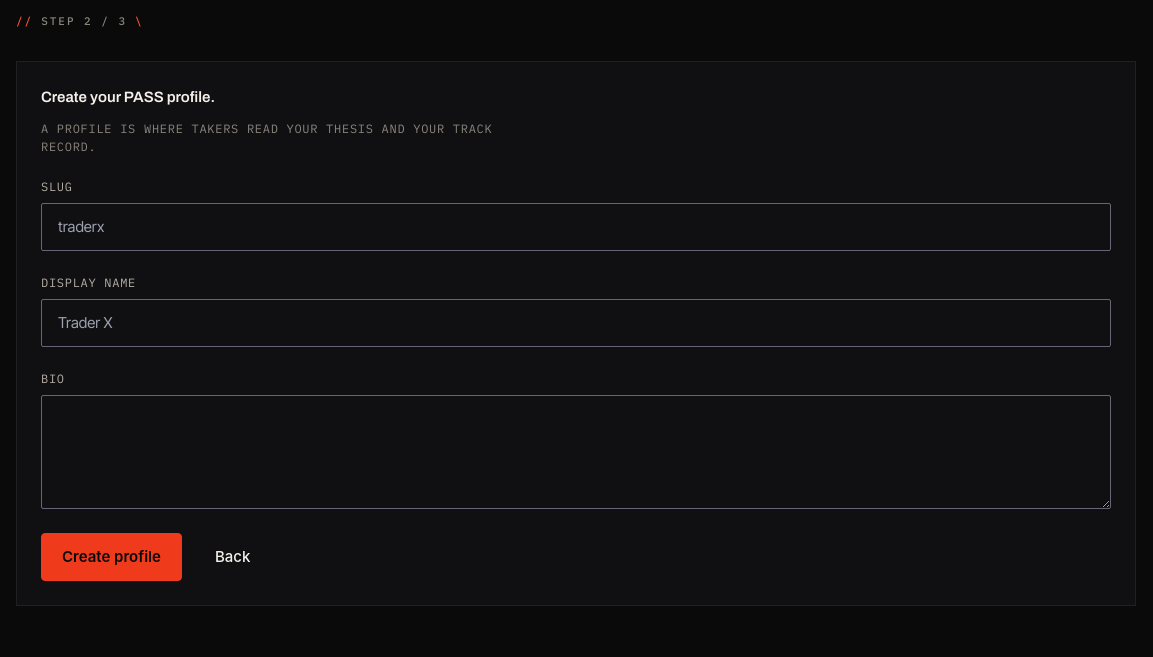
Test: OnboardingFlow — profile step › surfaces a taken slug from the API
Expected: the heading "Create your PASS profile." is shown, [41,89,215,105]
In the field labelled "Slug": [576, 227] box [41,203,1111,251], type "takenname"
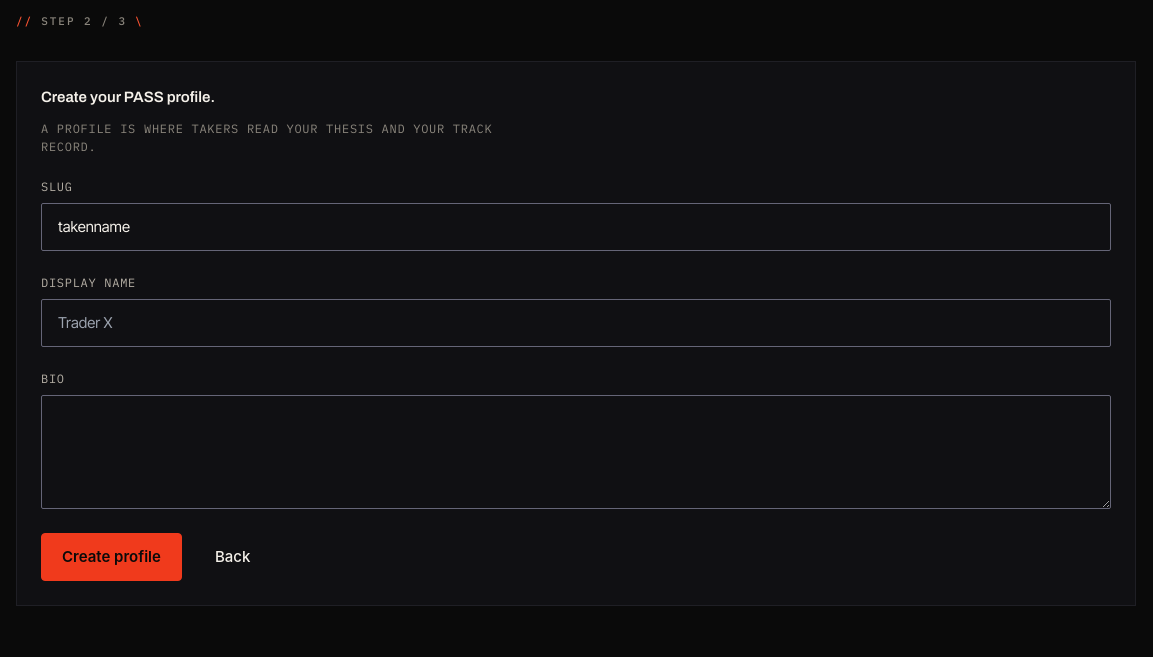
In the field labelled "Display name": [576, 323] box [41,299,1111,347], type "Taken"
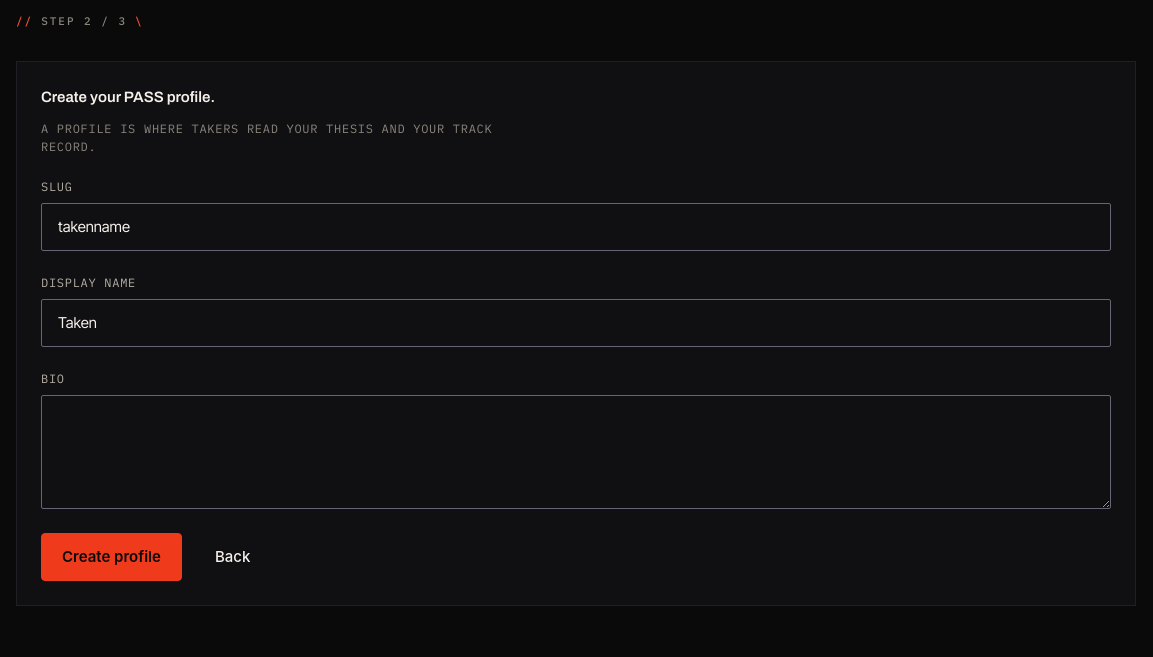
Click the button "Create profile": [111, 557] box [41,533,182,581]
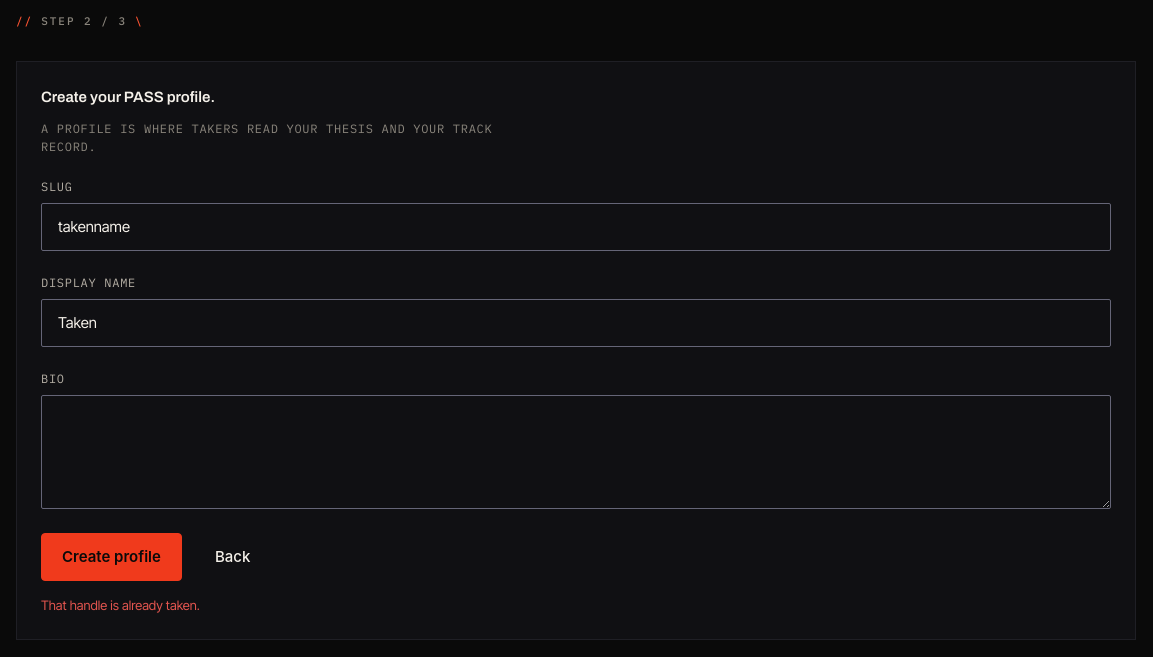
Result: the message reads "That handle is already taken." at [41,598,200,614]
